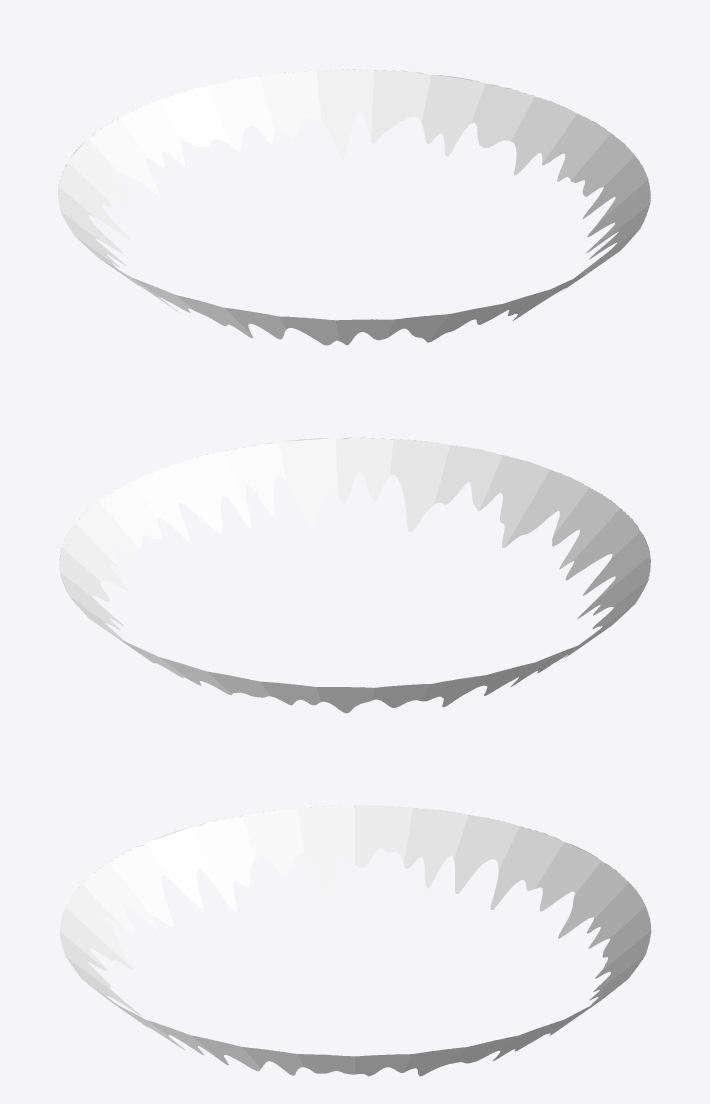
File: wave.obj
The picture shows the model from 3 angles, top to bottom: view 1: azimuth 30°, elevation 25°; view 2: azimuth 150°, elevation 25°; view 3: azimuth 270°, elevation 25°; orthographic projection.
Visible parts, largest first — view 1: 円柱; view 2: 円柱; view 3: 円柱.
Part boxes in pixels (left/top/right/bottom): 円柱: left=58, top=69, right=650, bottom=345; 円柱: left=59, top=437, right=650, bottom=713; 円柱: left=59, top=805, right=651, bottom=1076.
Bounding box in the file's own units: 2.82 × 0.4862 × 2.82.
Materials: 1 (1 with a texture image).
